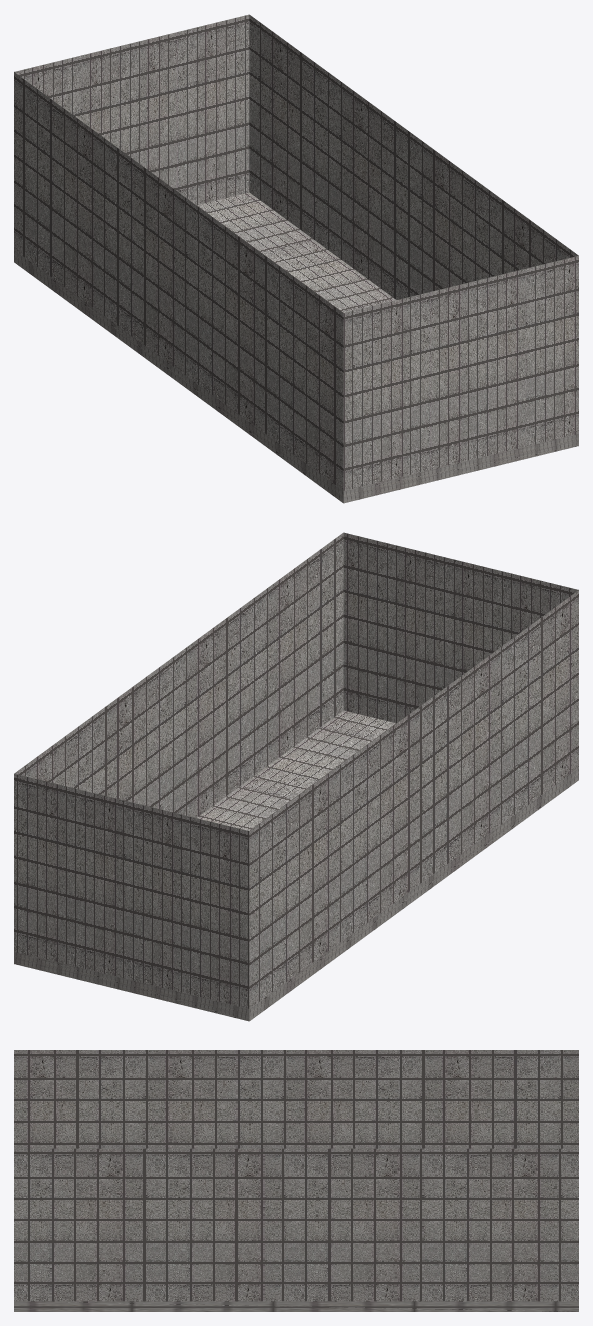
The model's file is pool_inside.glb.
The picture shows the model from 3 angles, top to bottom: view 1: azimuth 30°, elevation 25°; view 2: azimuth 150°, elevation 25°; view 3: azimuth 270°, elevation 25°; orthographic projection. The views are drawn at different scales.
Visible parts, largest first — view 1: Cube; view 2: Cube; view 3: Cube.
Boxes of the visible parts, x1,y1,x2,y2 form: Cube: [14, 14, 578, 503]; Cube: [14, 532, 578, 1021]; Cube: [14, 1050, 578, 1311].
Bounding box in the file's own units: 39.89 × 30.81 × 96.69.
1 material, 1 textured.
